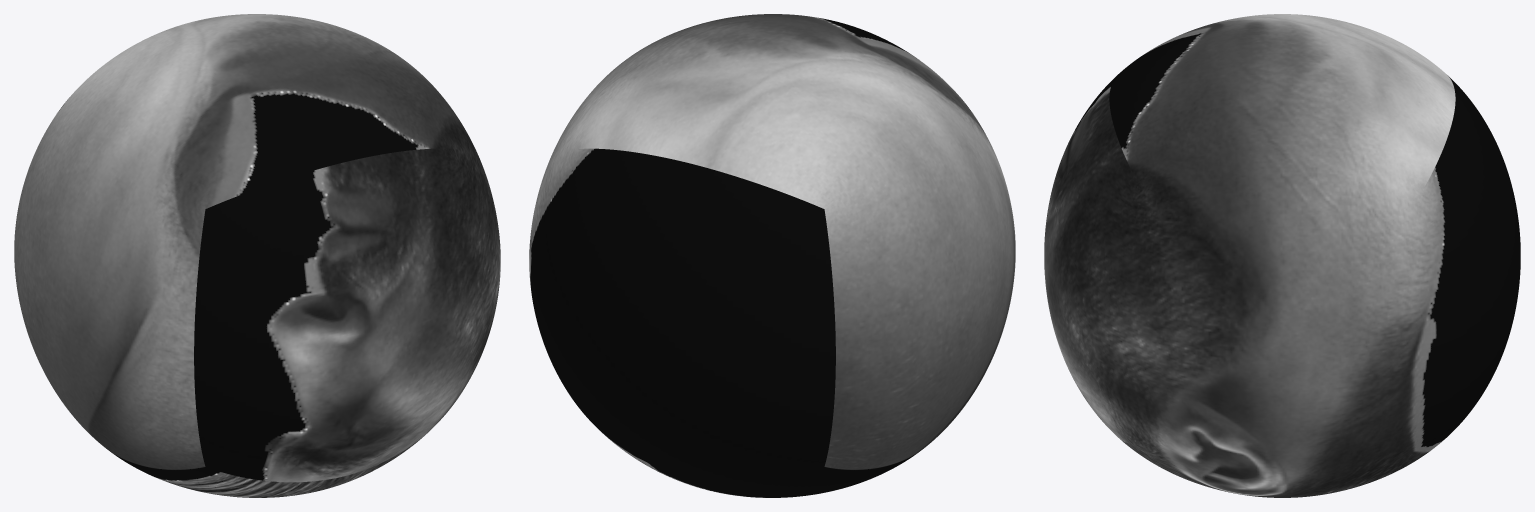
The model's file is wow.glb.
3 views of the same model, side by side, from view 1: azimuth 30°, elevation 25°; view 2: azimuth 150°, elevation 25°; view 3: azimuth 270°, elevation 25° (orthographic).
Visible parts, largest first — view 1: Cube; view 2: Cube; view 3: Cube.
Part boxes in pixels (box(x1,y1,x2,y2)): Cube: box(14, 14, 500, 497); Cube: box(529, 14, 1015, 497); Cube: box(1044, 14, 1520, 497).
Size of the model in its own units: 0.891 by 0.891 by 0.891.
Materials: 1 (1 with a texture image).
